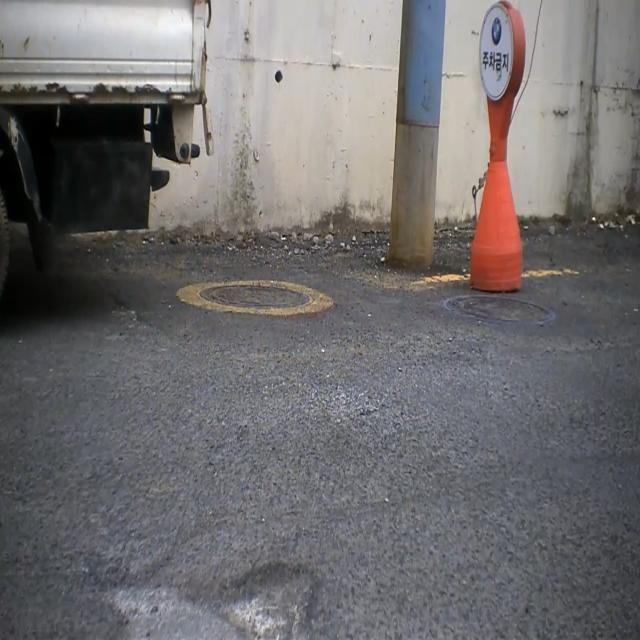Pothole: (203, 544, 338, 640)
